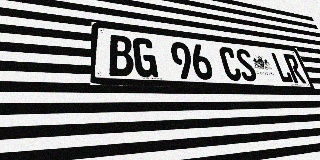6: (189, 43, 214, 80)
9: (169, 41, 195, 79)
B: (108, 34, 134, 77)
C: (218, 46, 243, 81)
G: (132, 37, 158, 78)
L: (270, 52, 294, 83)
R: (283, 53, 307, 83)
S: (234, 48, 259, 82)
